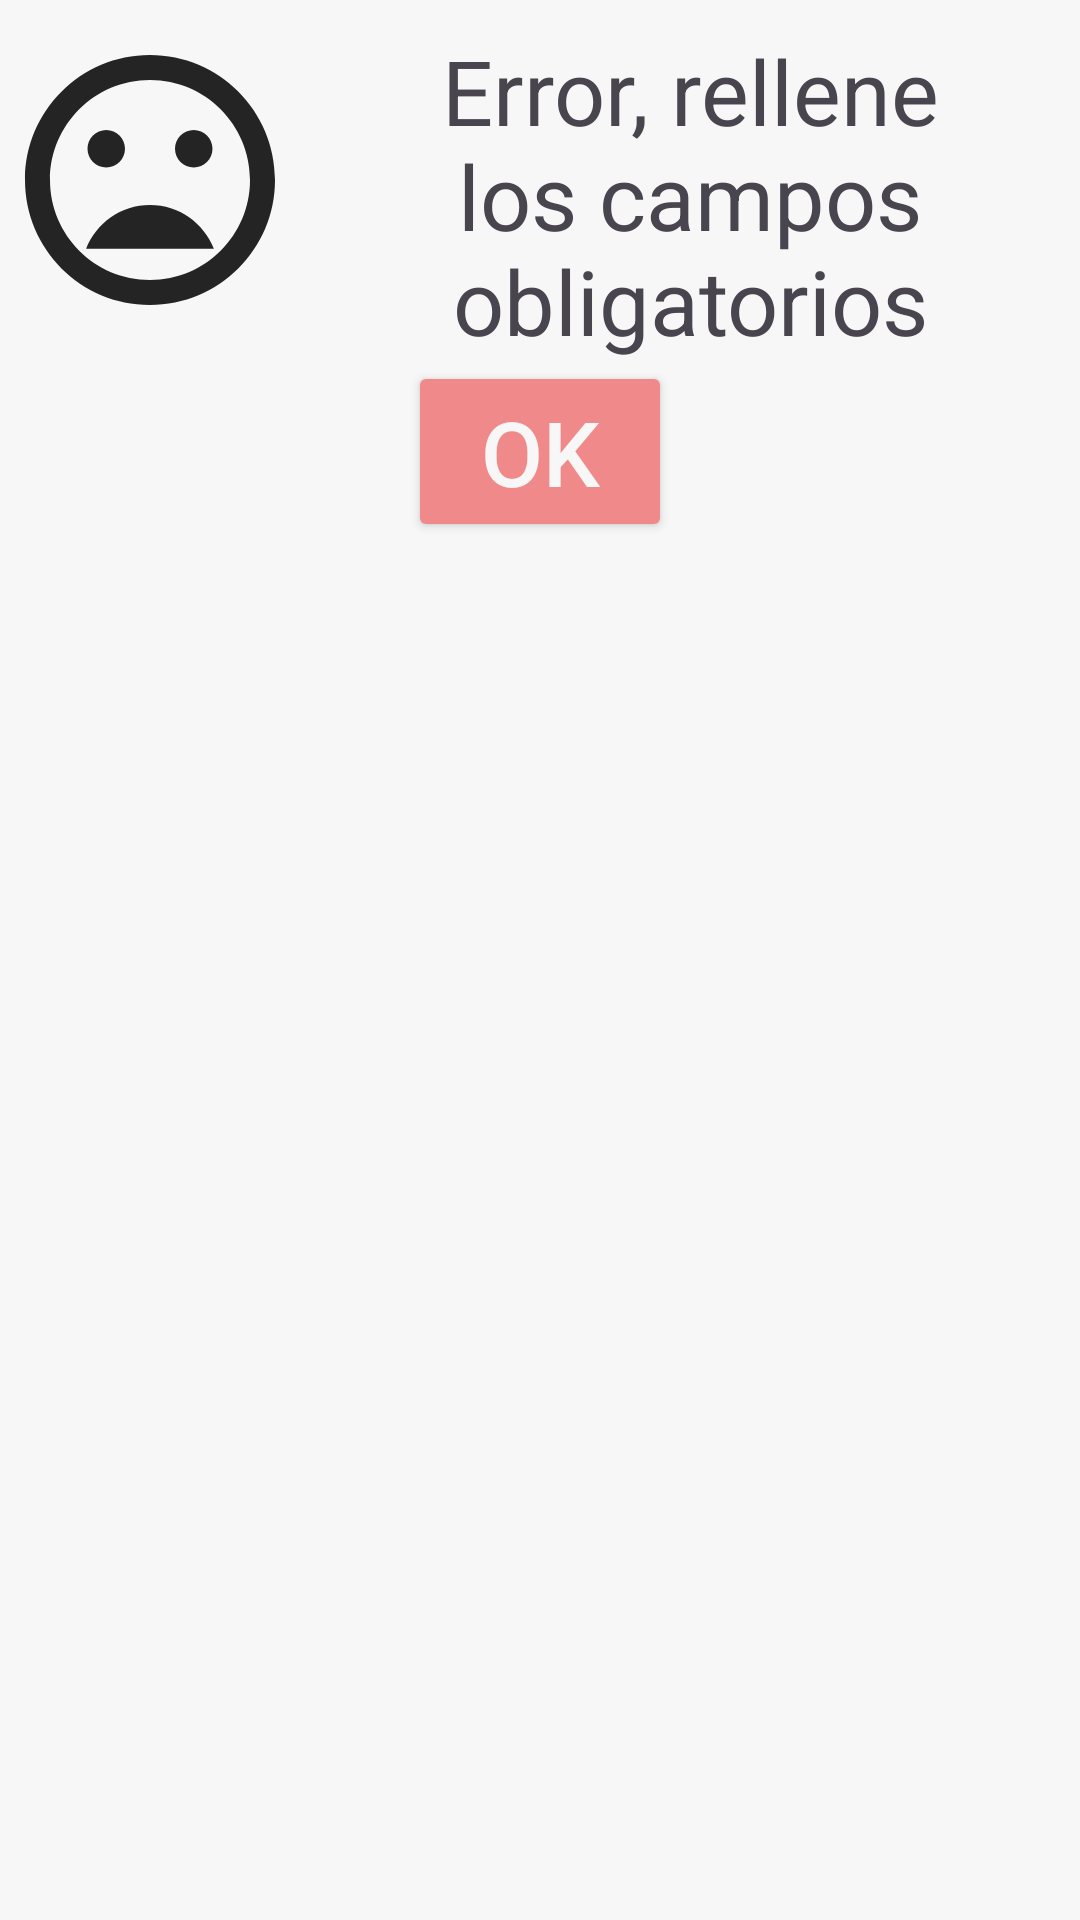

Point at icon controls on the screen. Image size 1080x1920, points as [x,y].
mood bad: [150,180]
